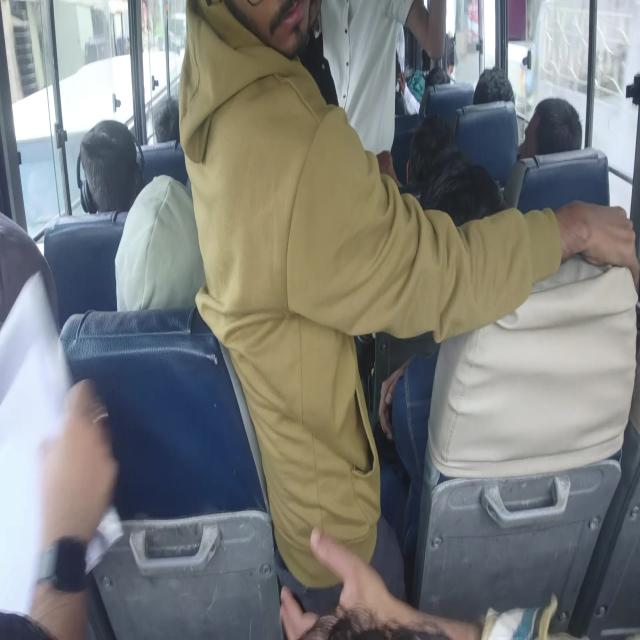person: (170, 1, 336, 316), (280, 0, 406, 132), (125, 176, 216, 302), (75, 128, 180, 210), (0, 230, 60, 340), (423, 163, 502, 246), (529, 90, 575, 162), (407, 39, 469, 91), (394, 114, 443, 178), (146, 80, 188, 139), (481, 66, 514, 91)
